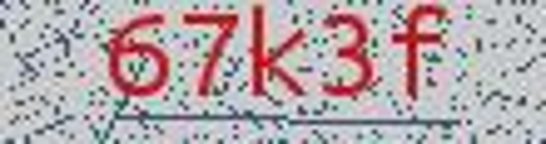3: (317, 9, 385, 129)
6: (94, 2, 171, 113)
7: (174, 6, 241, 107)
f: (387, 3, 455, 117)
k: (245, 3, 316, 122)
